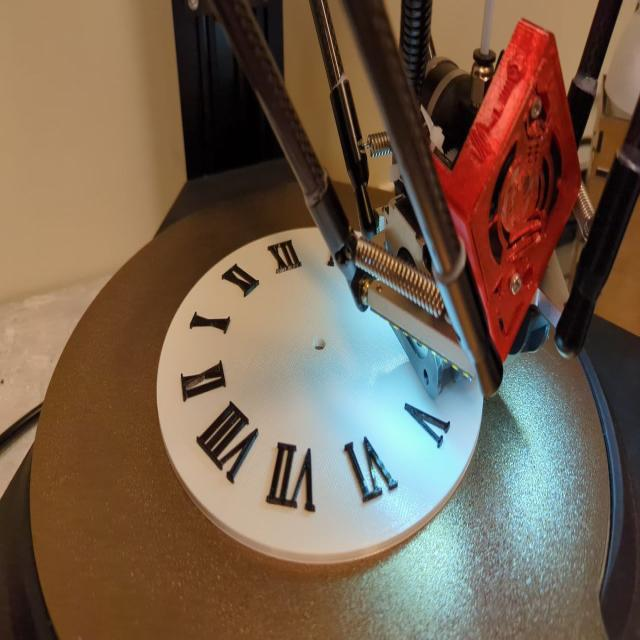Without deffect: (138, 179, 498, 583)
